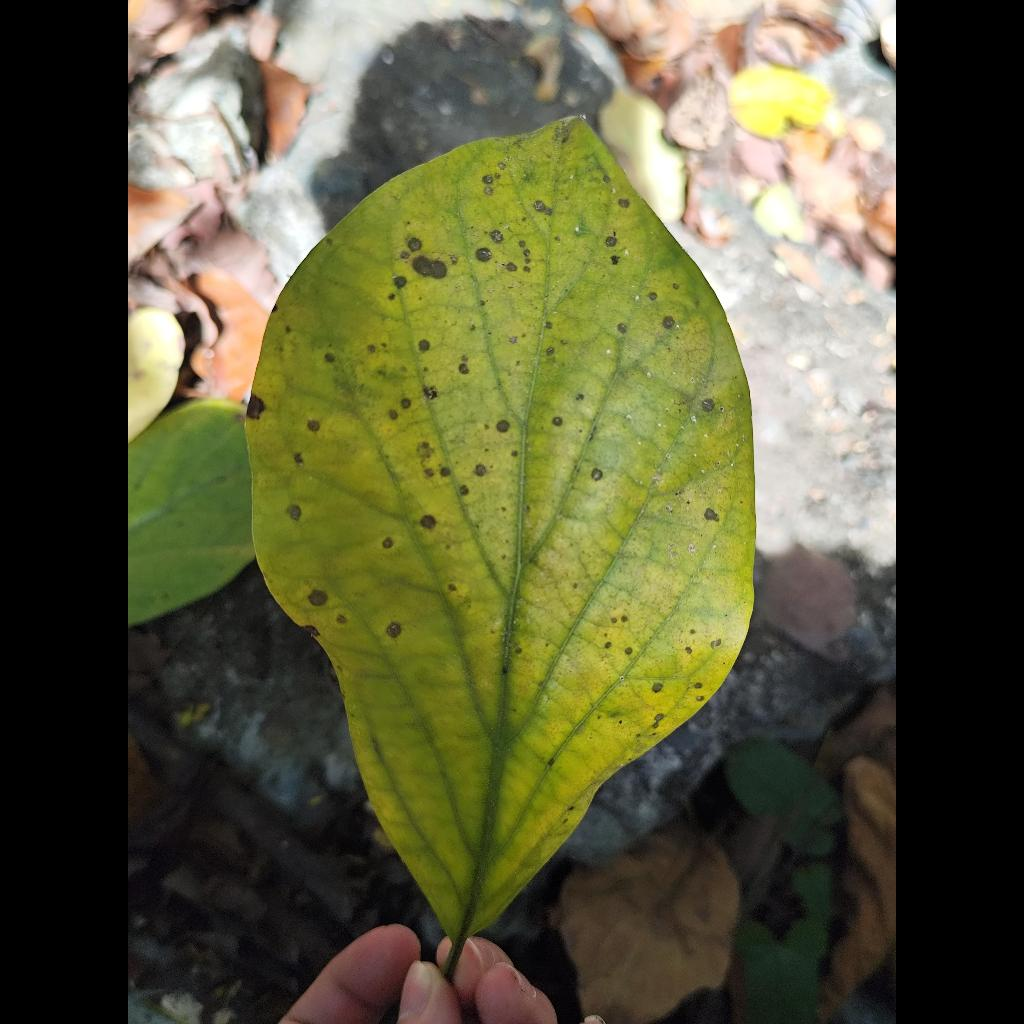deficiencia_nutricional: (246, 117, 754, 945)
